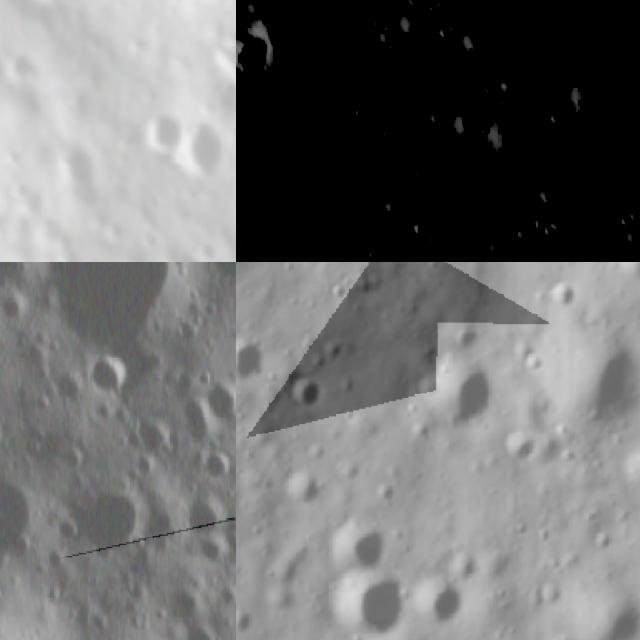crater: (556, 312, 640, 429), (411, 351, 500, 436), (325, 569, 414, 640), (469, 100, 544, 176), (570, 574, 640, 640), (83, 483, 151, 550), (320, 520, 394, 578), (236, 12, 288, 93), (183, 110, 234, 184), (414, 571, 469, 633), (437, 96, 495, 154), (134, 95, 186, 158), (275, 461, 330, 512), (182, 492, 234, 541), (286, 366, 328, 421), (88, 352, 134, 395), (500, 425, 542, 471), (236, 336, 273, 388), (210, 14, 236, 82), (200, 375, 236, 424), (142, 413, 182, 454), (544, 276, 581, 320), (522, 206, 562, 246), (203, 439, 236, 483), (532, 176, 569, 214), (617, 445, 640, 502), (598, 262, 640, 291), (613, 217, 640, 258), (236, 605, 255, 640)
